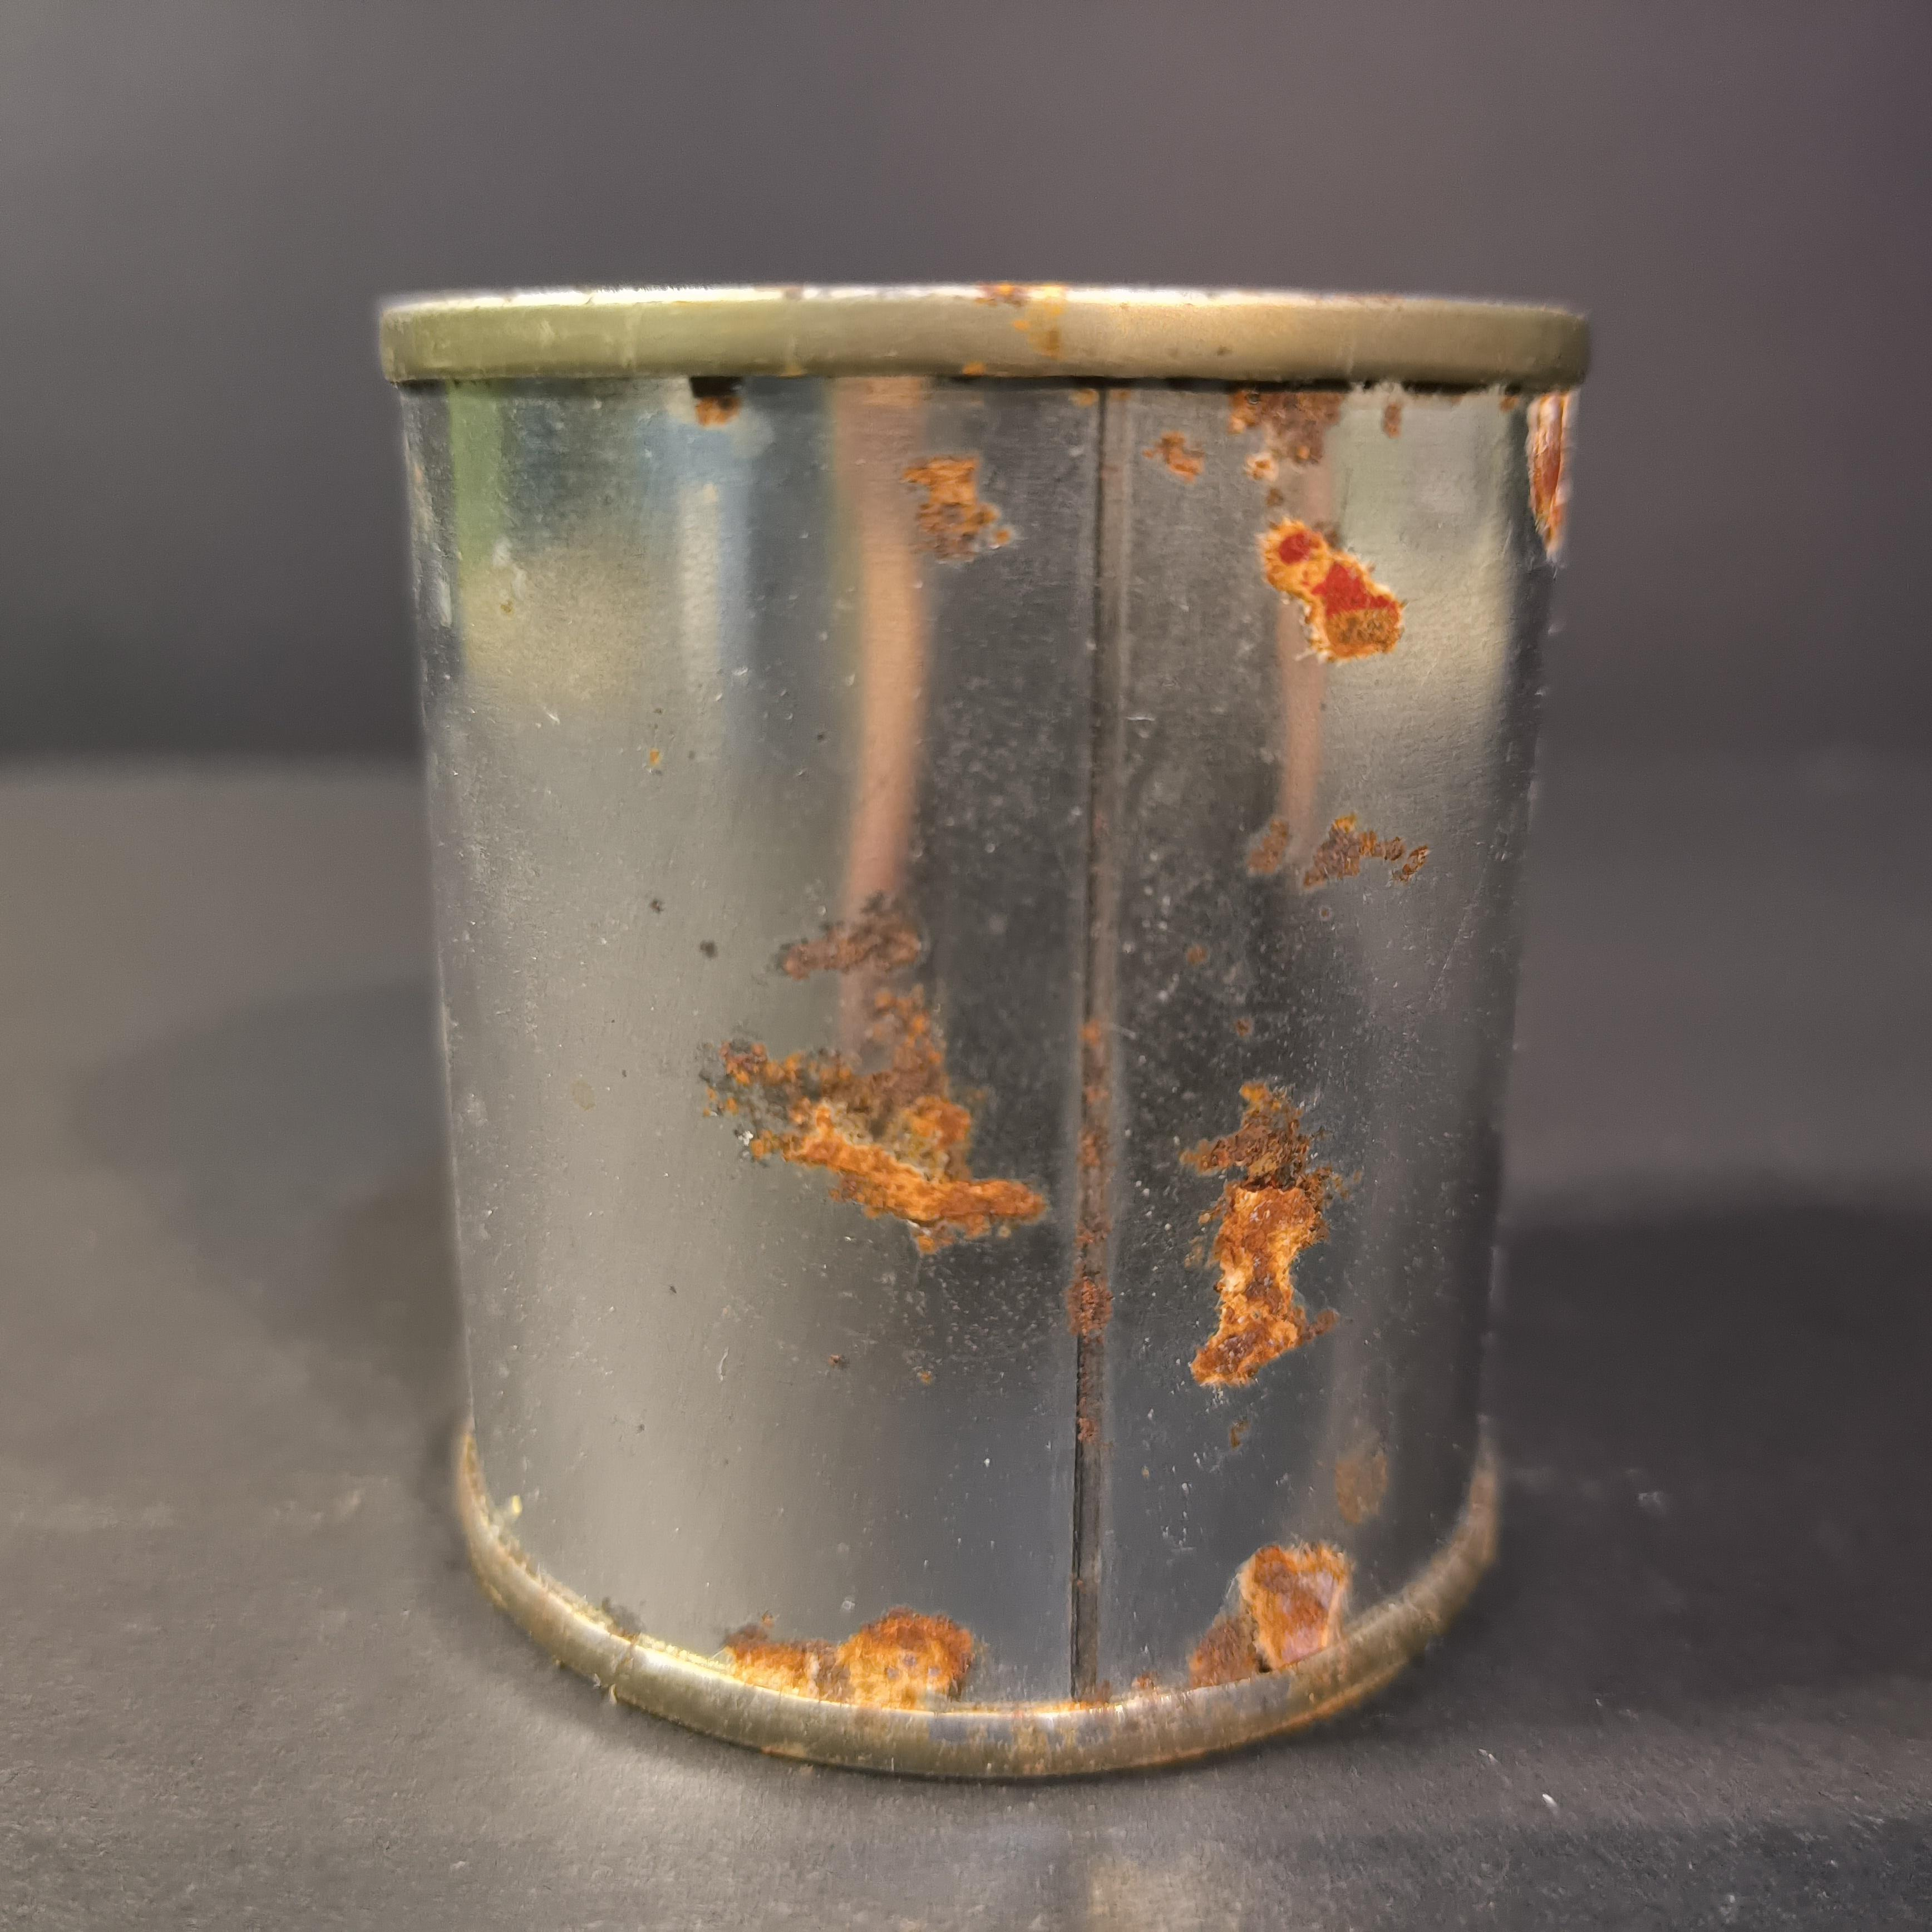Rusted: (359, 253, 1616, 1792)
